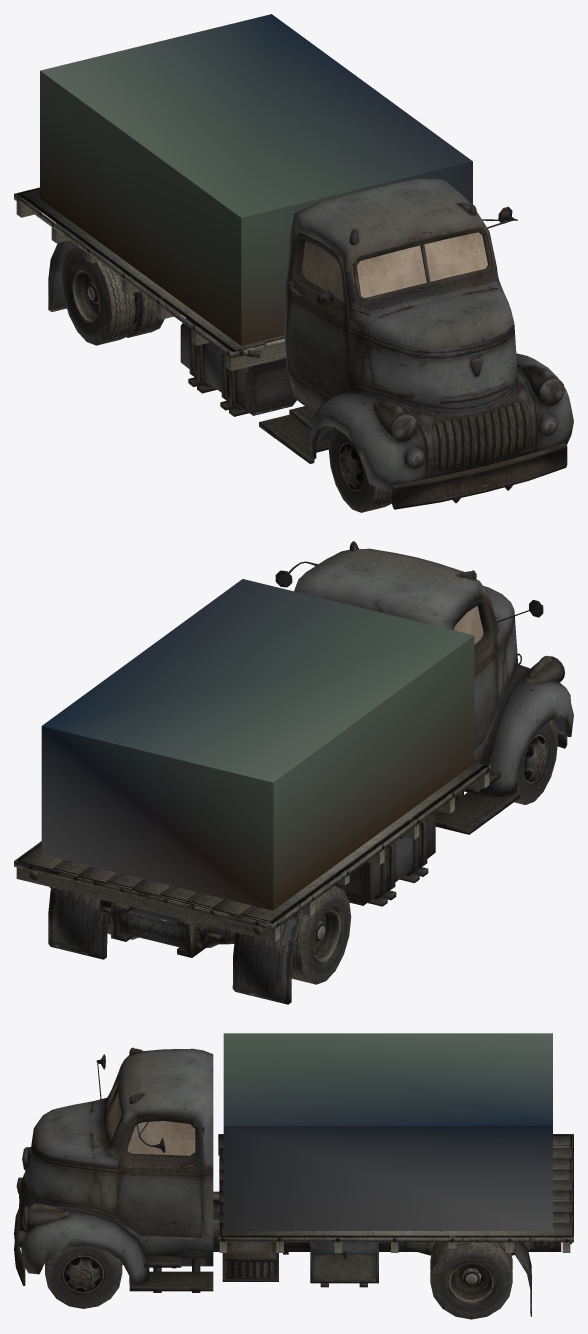
The model's file is old_truck_2.fbx.
The picture shows the model from 3 angles, top to bottom: view 1: azimuth 30°, elevation 25°; view 2: azimuth 150°, elevation 25°; view 3: azimuth 270°, elevation 25°; orthographic projection. The views are drawn at different scales.
Parts seen in each view (by area): view 1: Cube, TruckMat1, TruckMat2, TruckGlass; view 2: Cube, TruckMat1, TruckMat2, TruckGlass; view 3: Cube, TruckMat1, TruckMat2, TruckGlass.
Part boxes in pixels (box(x1,y1,x2,y2)): Cube: box(40, 14, 472, 345); TruckMat1: box(48, 179, 573, 509); TruckMat2: box(14, 187, 391, 512); TruckGlass: box(302, 232, 487, 301); Cube: box(41, 579, 474, 910); TruckMat1: box(29, 541, 573, 1004); TruckMat2: box(14, 719, 557, 984); TruckGlass: box(453, 606, 483, 644); Cube: box(223, 1033, 552, 1230); TruckMat1: box(14, 1047, 572, 1316); TruckMat2: box(45, 1134, 573, 1319); TruckGlass: box(109, 1082, 195, 1155).
Bounding box in the file's own units: 549 × 499 × 1252.
Materials: 3 (3 with a texture image).
